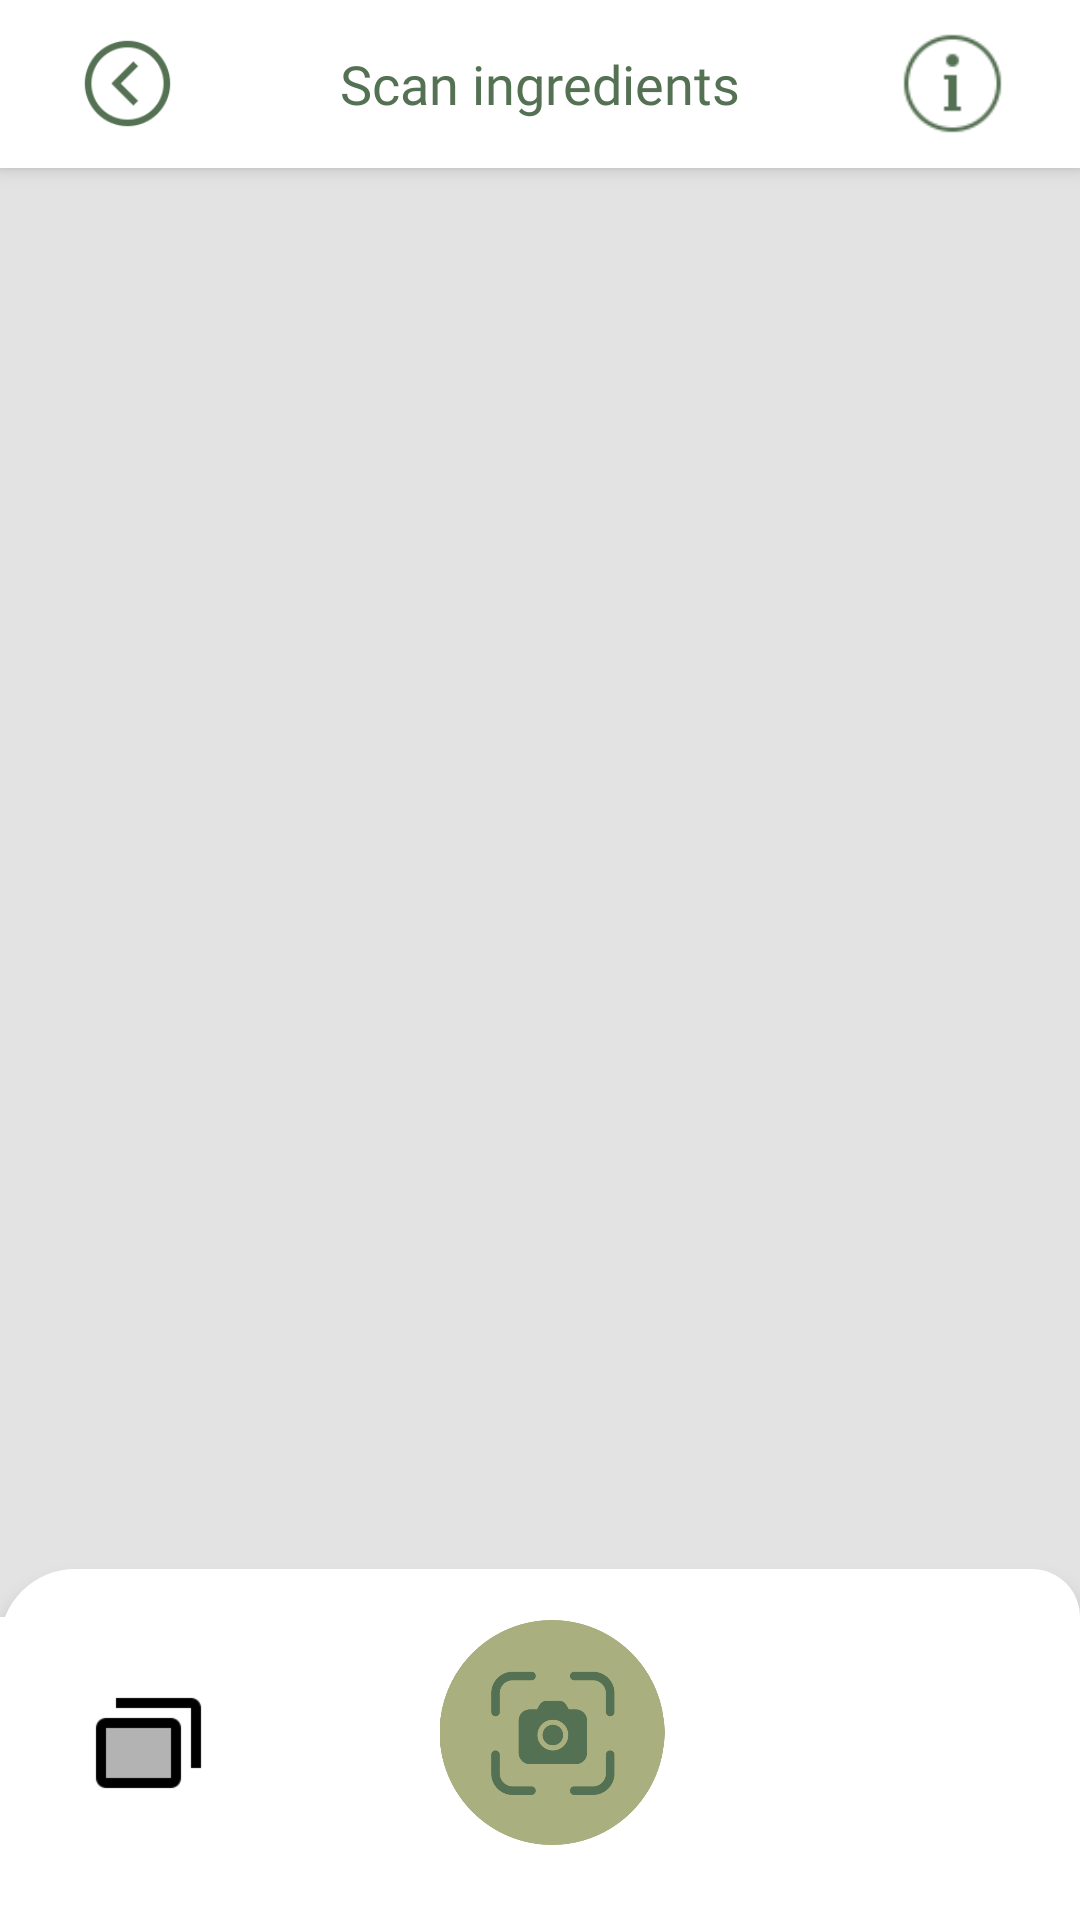

Icon click points for this 1080px x 1920px phone screenshot, format [x,y]:
back: [127,83]
Camera: [552,1732]
info: [952,83]
input picture from gallery: [148,1743]
